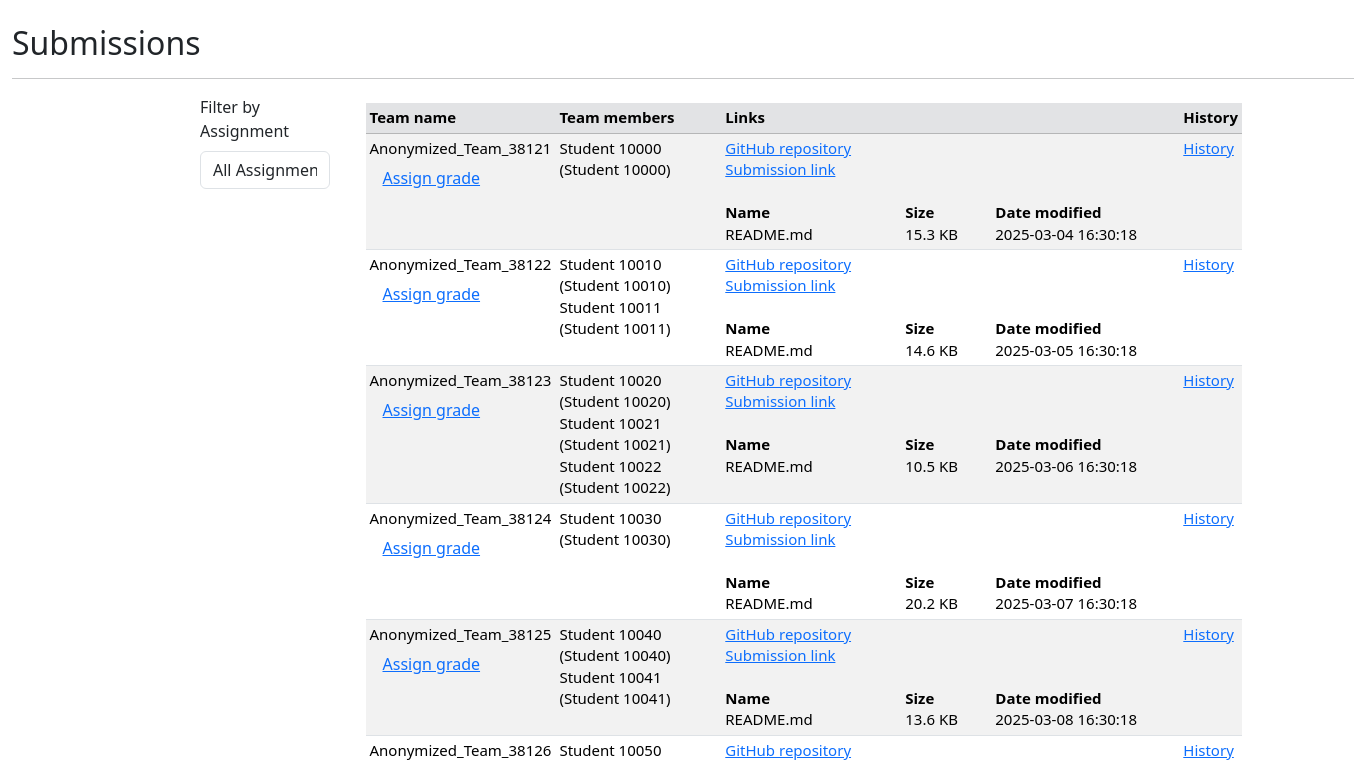
Test case: SubmissionsView › shows all submissions when no filter is applied
The width and height of the screenshot is (1366, 762).
# Select an assignment to filter
Select "Assignment 1" in the dropdown labelled "Filter by Assignment" at (265, 170), box [200, 151, 330, 189]
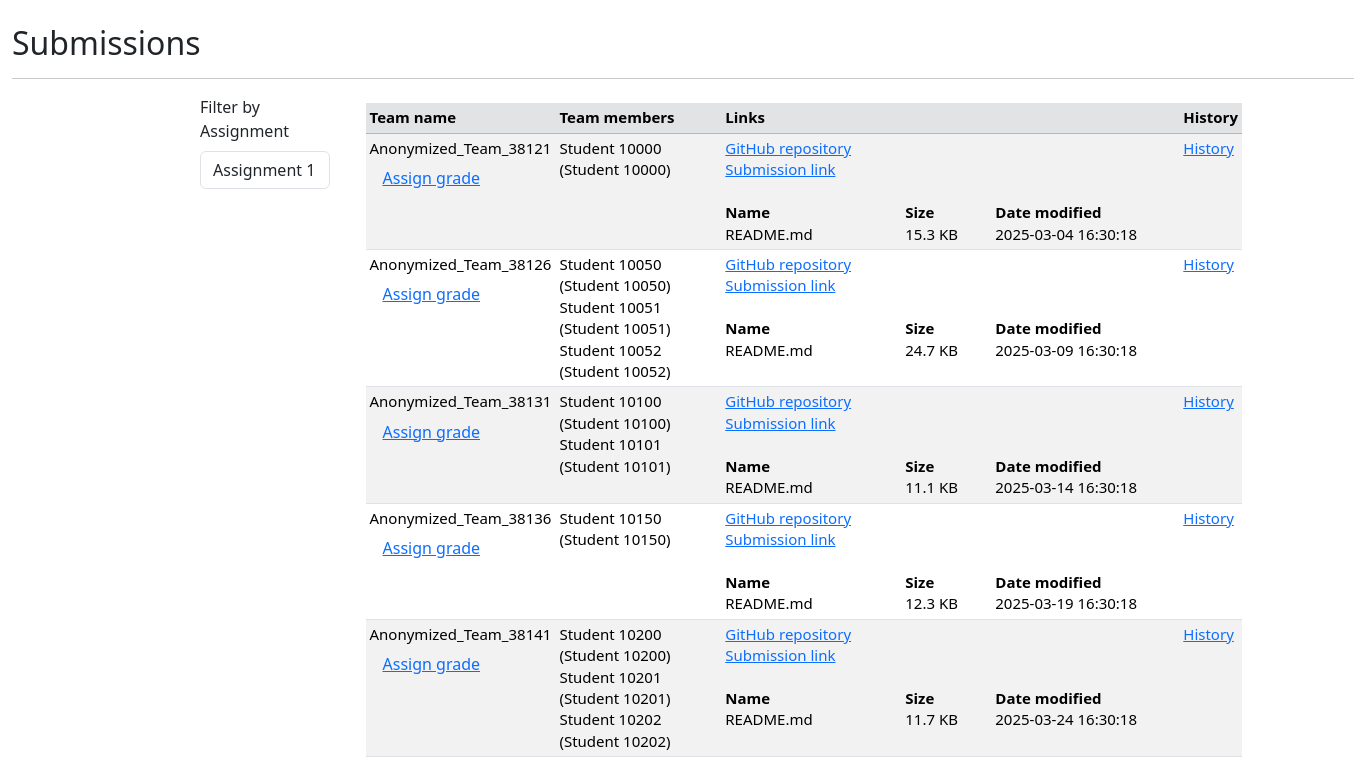
# Reset filter
Select "All Assignments" in the dropdown labelled "Filter by Assignment" at (265, 170), box [200, 151, 330, 189]
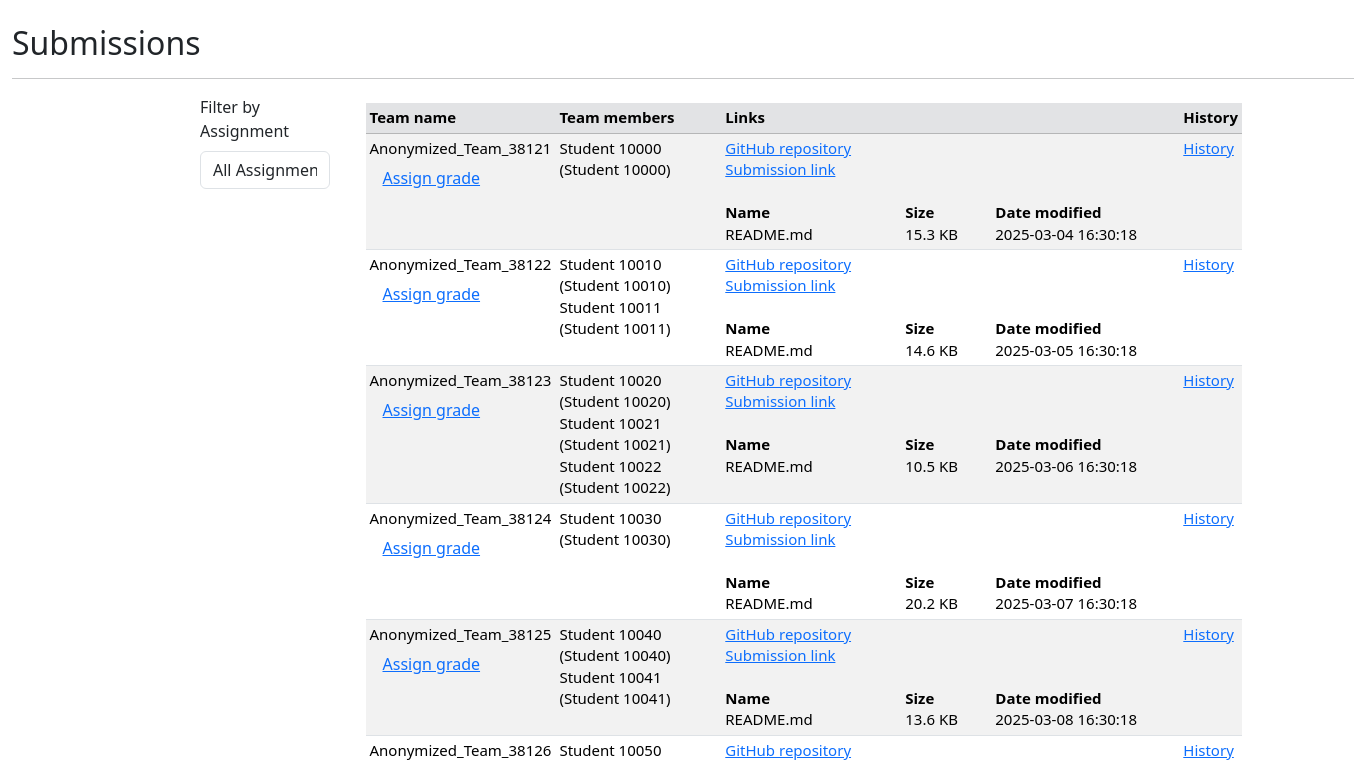
Check: the text "Anonymized_Team_38121" is shown, box [370, 138, 551, 159]
Check: the text "Anonymized_Team_38122" is shown, box [370, 254, 551, 275]
